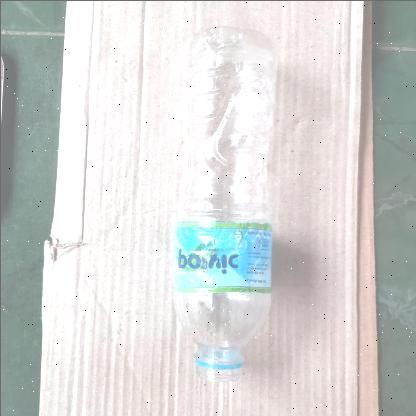Plastic Bottle: (170, 27, 278, 381)
